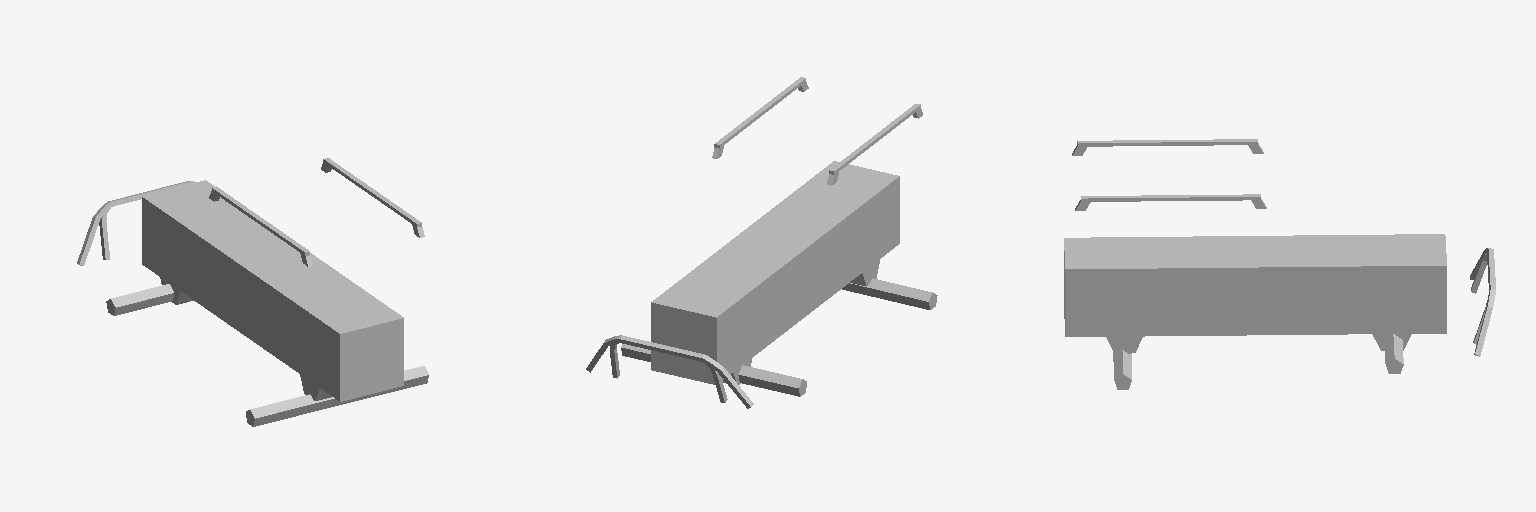
The model's file is chassis_other.obj.
3 views of the same model, side by side, from view 1: azimuth 30°, elevation 25°; view 2: azimuth 150°, elevation 25°; view 3: azimuth 270°, elevation 25° (orthographic).
Parts seen in each view (by area): view 1: chassis_Cube.002, axleb_Cylinder.001, Cube.001, axlef_Cylinder.001, roofrackr_Cube.001, roofrackl_Cube.001; view 2: chassis_Cube.002, Cube.001, axlef_Cylinder.001, axleb_Cylinder.001, roofrackl_Cube.001, roofrackr_Cube.001; view 3: chassis_Cube.002, roofrackl_Cube.001, roofrackr_Cube.001, Cube.001, axlef_Cylinder.001, axleb_Cylinder.001.
Part boxes in pixels (bbox=[...]): chassis_Cube.002: bbox=[142, 180, 403, 401]; axleb_Cylinder.001: bbox=[246, 366, 428, 426]; Cube.001: bbox=[77, 181, 195, 265]; axlef_Cylinder.001: bbox=[106, 284, 173, 315]; roofrackr_Cube.001: bbox=[321, 158, 424, 237]; roofrackl_Cube.001: bbox=[209, 186, 312, 266]; chassis_Cube.002: bbox=[651, 161, 899, 384]; Cube.001: bbox=[586, 335, 753, 408]; axlef_Cylinder.001: bbox=[621, 344, 806, 396]; axleb_Cylinder.001: bbox=[842, 278, 937, 309]; roofrackl_Cube.001: bbox=[827, 104, 922, 185]; roofrackr_Cube.001: bbox=[712, 77, 808, 158]; chassis_Cube.002: bbox=[1064, 234, 1446, 353]; roofrackl_Cube.001: bbox=[1072, 139, 1263, 155]; roofrackr_Cube.001: bbox=[1075, 194, 1266, 210]; Cube.001: bbox=[1470, 248, 1495, 356]; axlef_Cylinder.001: bbox=[1384, 334, 1403, 373]; axleb_Cylinder.001: bbox=[1113, 350, 1131, 389].
Size of the model in its own units: 2.42 by 2.31 by 5.03.